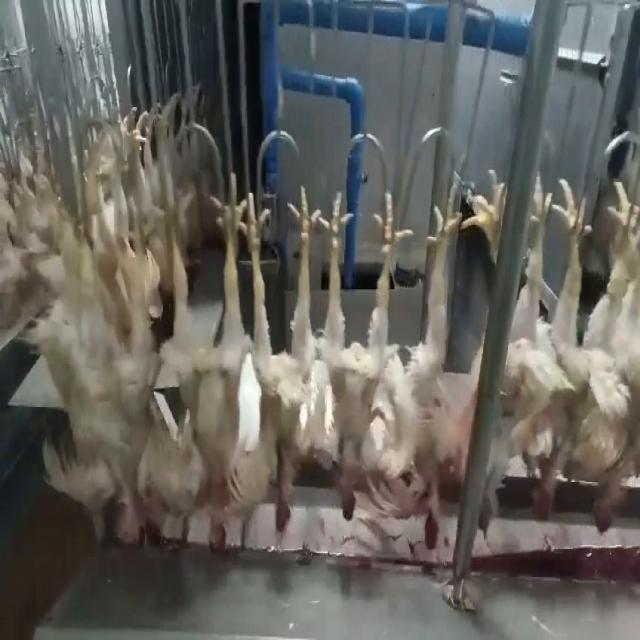chicken: (482, 172, 594, 516), (374, 194, 469, 555), (237, 180, 326, 540), (314, 181, 403, 523), (170, 179, 247, 549), (568, 174, 640, 540), (109, 176, 170, 549)
